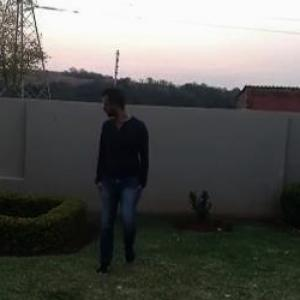follow: (92, 84, 149, 282)
